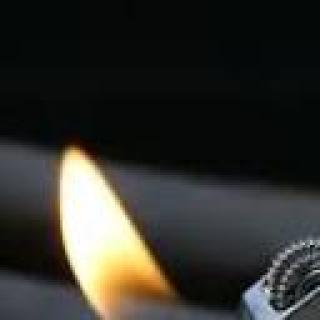fire: (57, 147, 177, 320)
